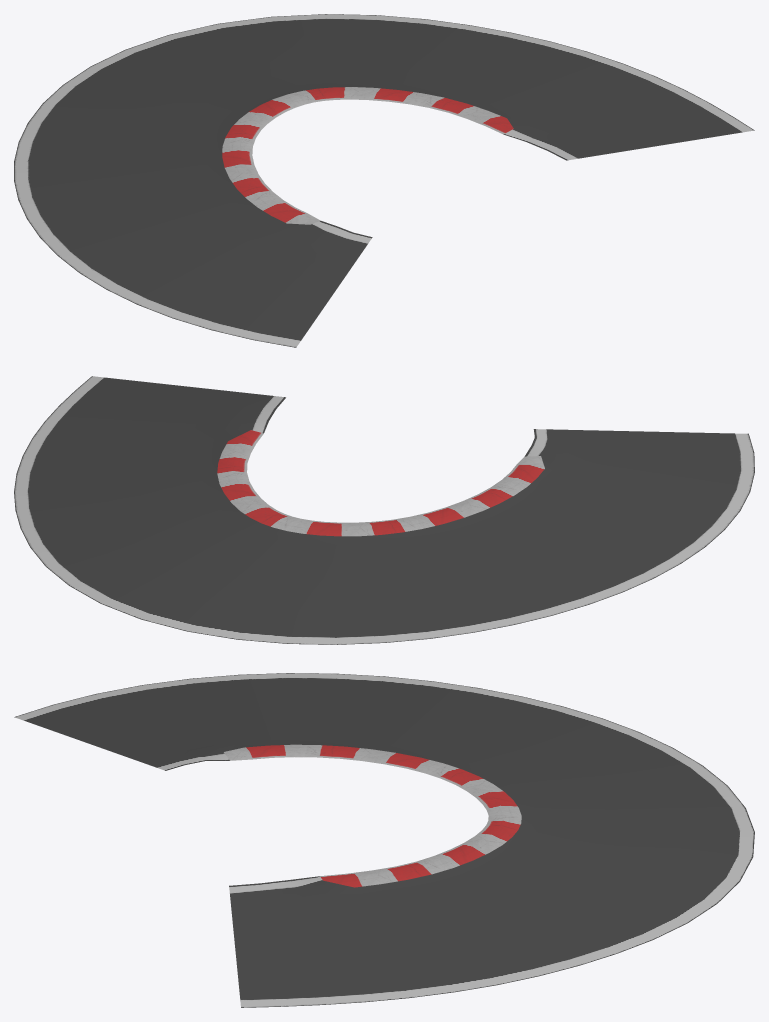
Rendered from sm_road.003.fbx.
3 renders of one model, top to bottom at view 1: azimuth 30°, elevation 25°; view 2: azimuth 150°, elevation 25°; view 3: azimuth 270°, elevation 25°, orthographic. The views are drawn at different scales.
Visible parts, largest first — view 1: sm_road.016; view 2: sm_road.016; view 3: sm_road.016.
Part boxes in pixels (x1,y1,x2,y2): sm_road.016: (14, 14, 754, 347); sm_road.016: (14, 376, 754, 644); sm_road.016: (14, 673, 754, 1007).
Size of the model in its own units: 49.05 by 1.63 by 45.88.
